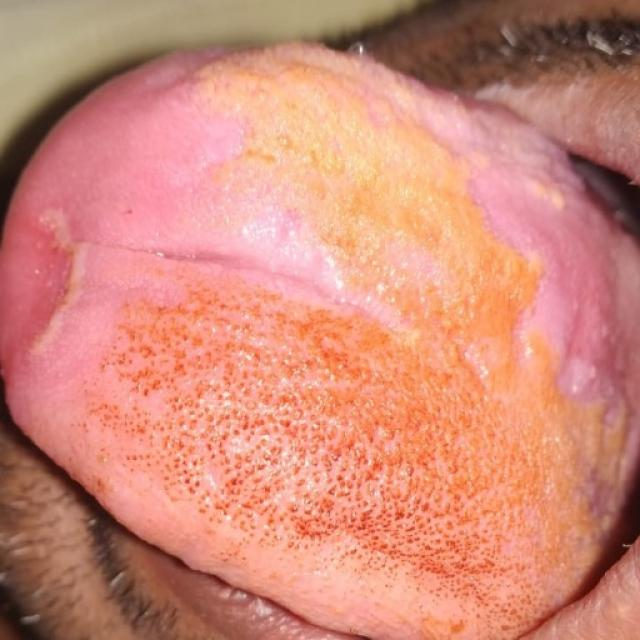leukoplakia-like-detection: (82, 39, 639, 614), (0, 185, 88, 404)
processing_area: (0, 39, 639, 639)
